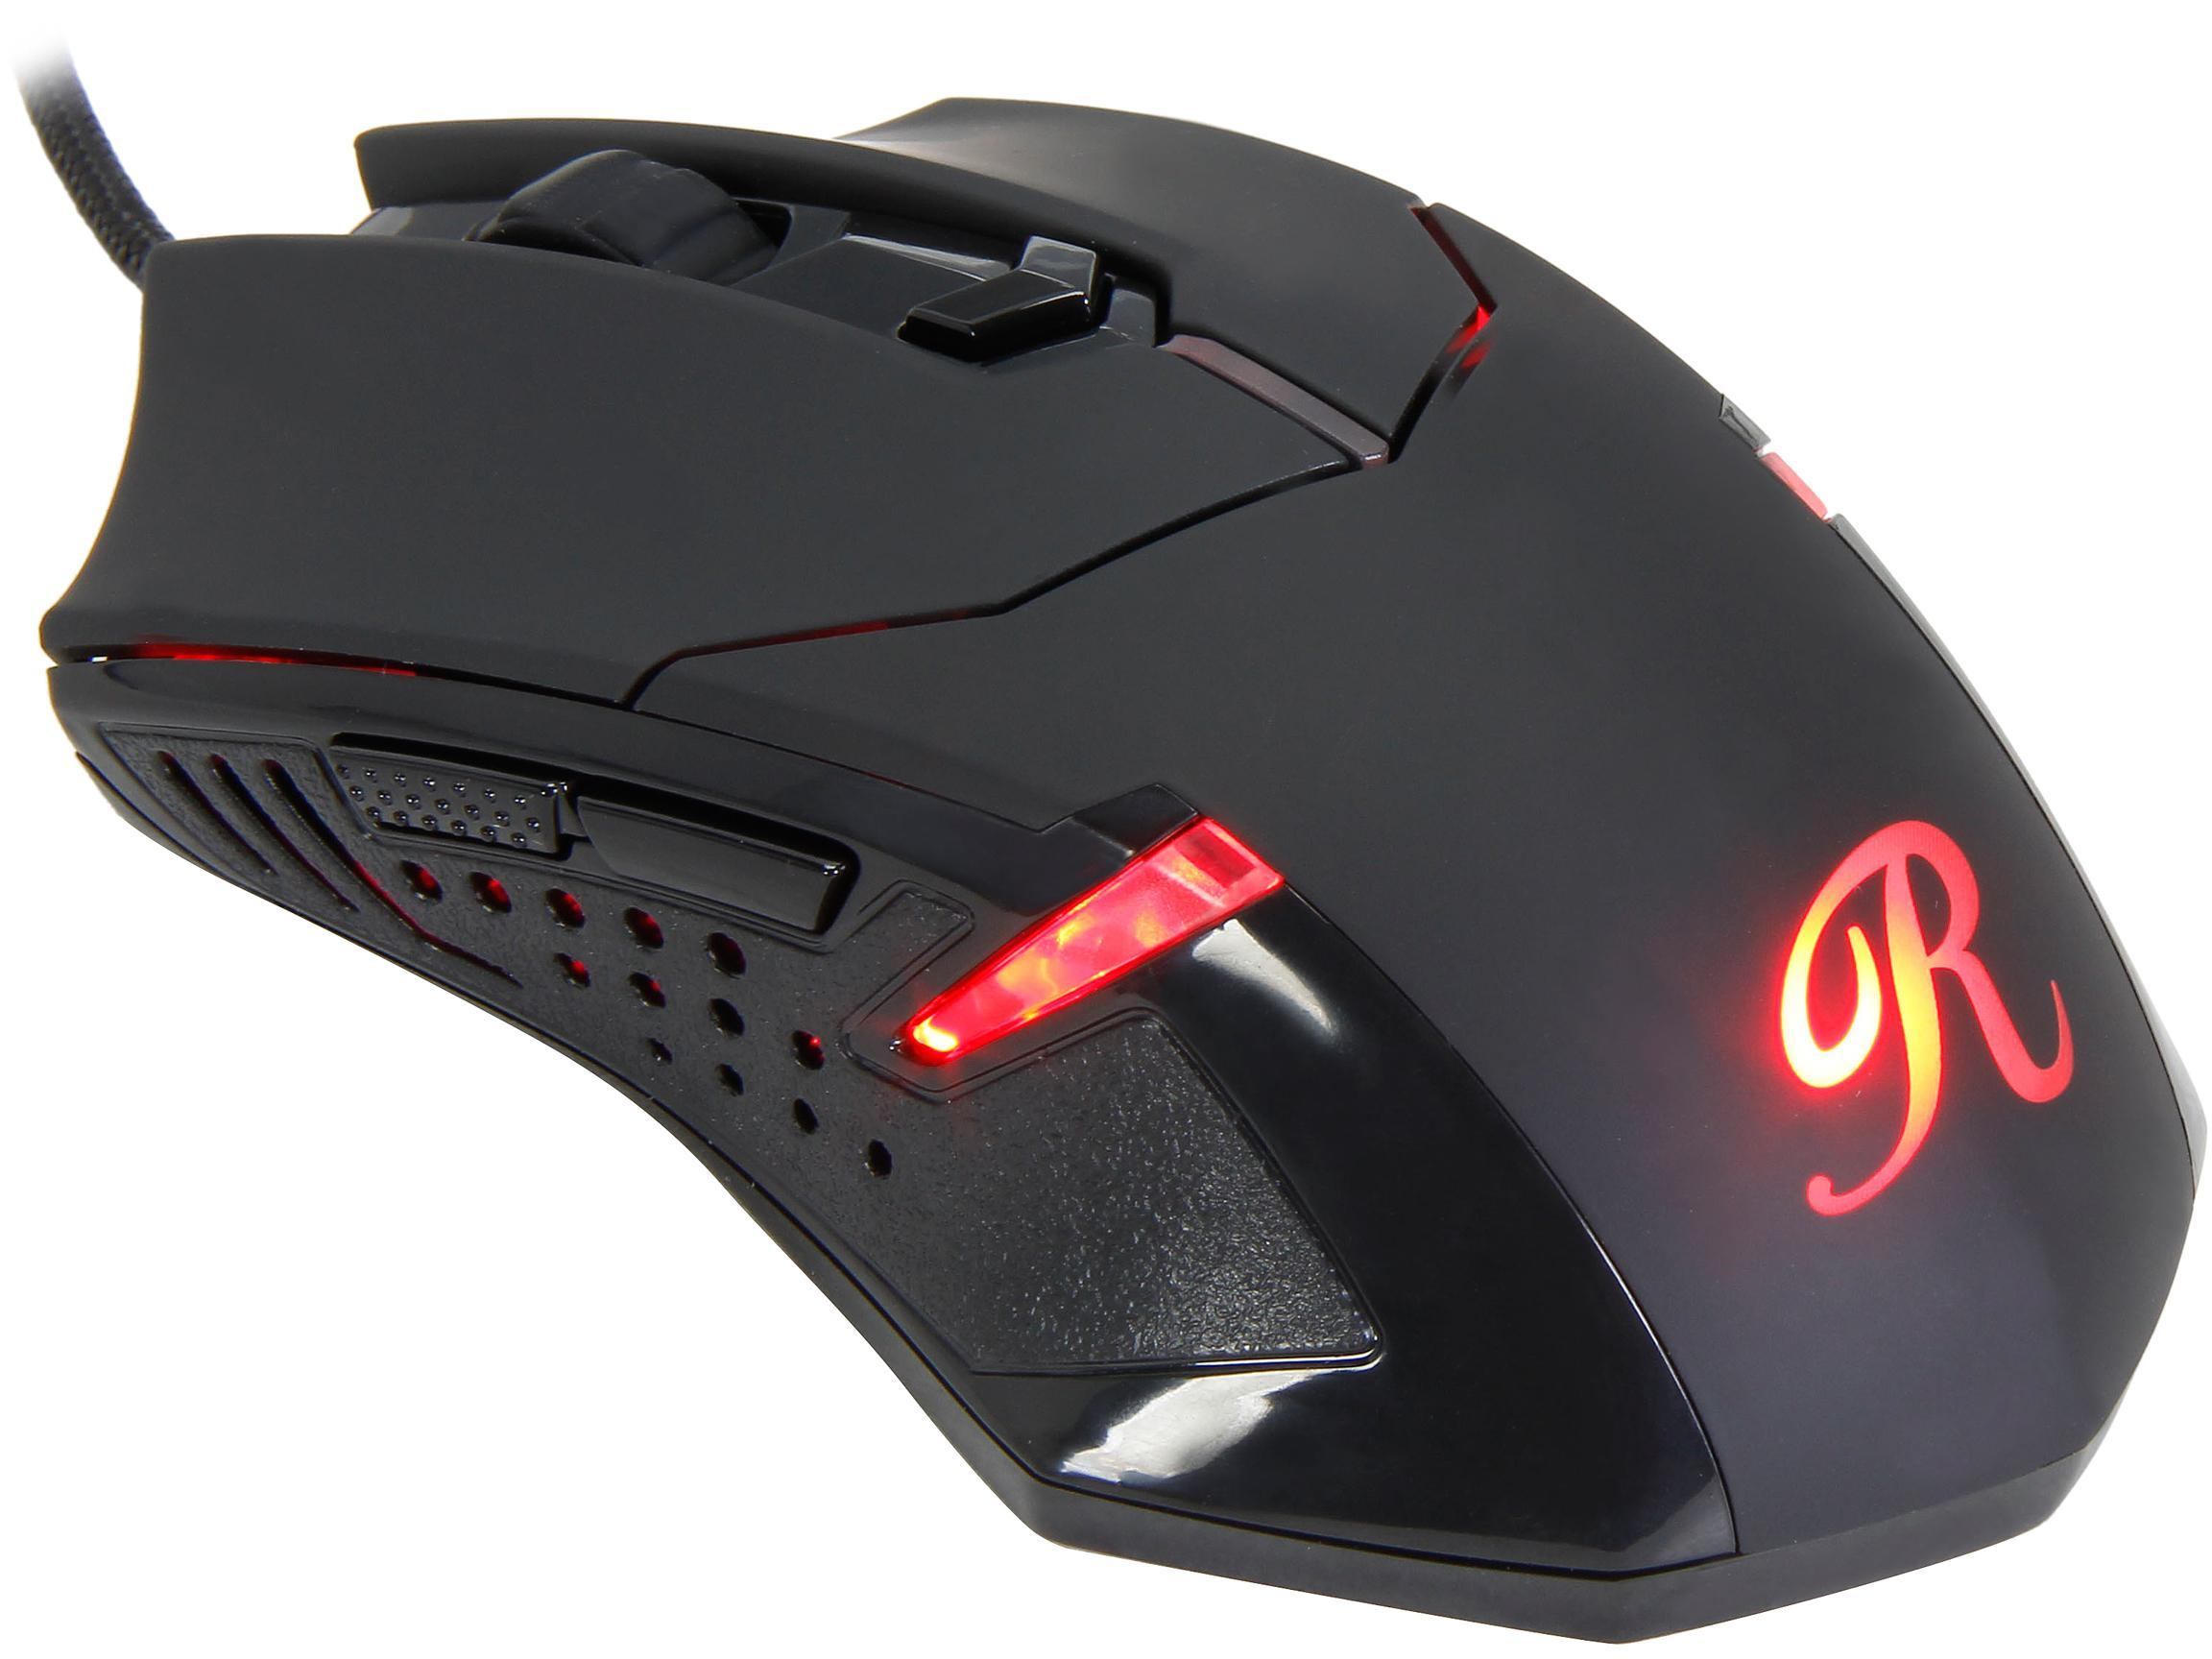computer mouse: (28, 52, 2212, 1649)
